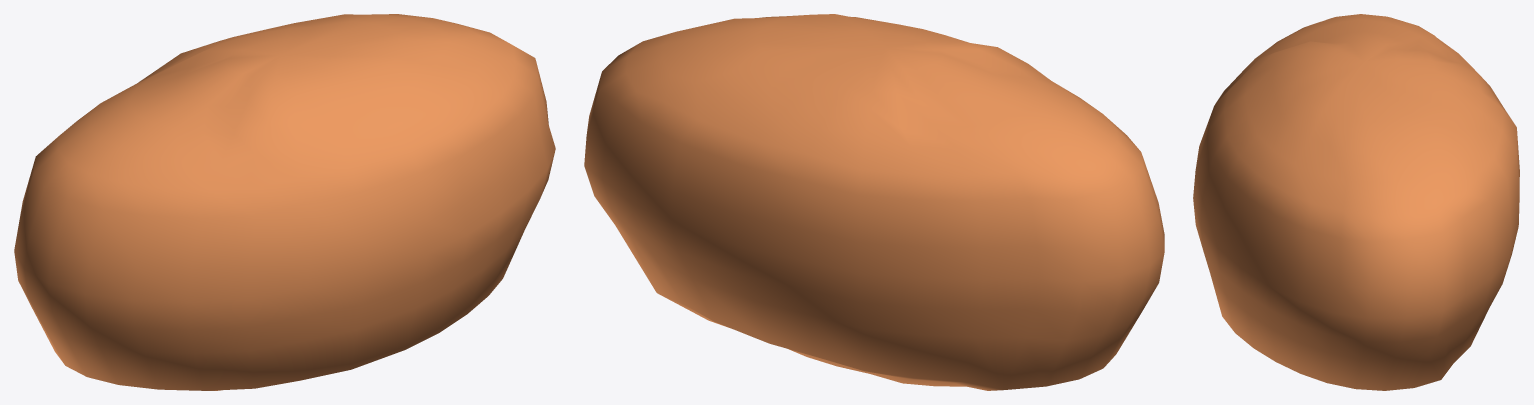
Rendered from Potato.glb.
3 renders of one model, left to right at view 1: azimuth 30°, elevation 25°; view 2: azimuth 150°, elevation 25°; view 3: azimuth 270°, elevation 25°, orthographic. The views are drawn at different scales.
Parts seen in each view (by area): view 1: Potato; view 2: Potato; view 3: Potato.
Part boxes in pixels (left/top/right/bottom): Potato: left=14, top=14, right=555, bottom=390; Potato: left=584, top=14, right=1164, bottom=390; Potato: left=1193, top=14, right=1519, bottom=390.
Size of the model in its own units: 0.4995 by 0.2598 by 0.2881.
